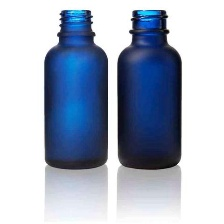bottle: (113, 8, 184, 172), (42, 5, 110, 172)
